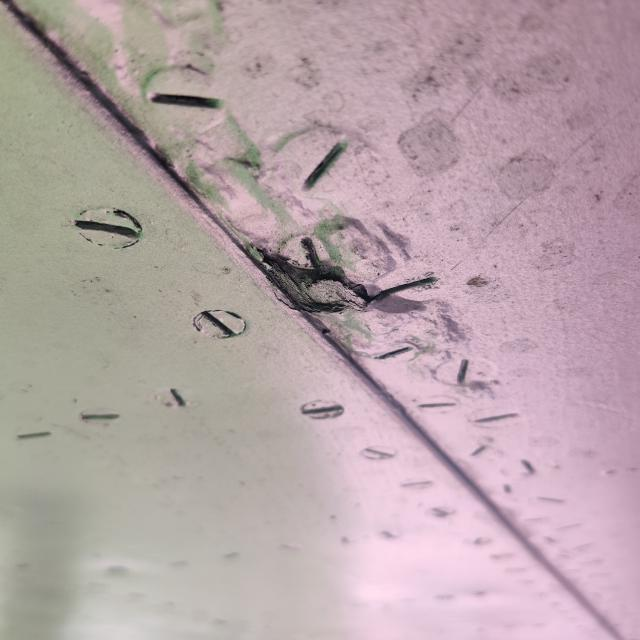paint-off: (222, 209, 406, 332)
